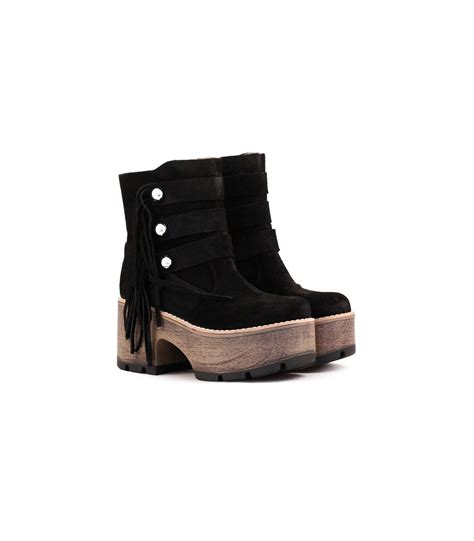gamuza: (119, 153, 353, 330)
